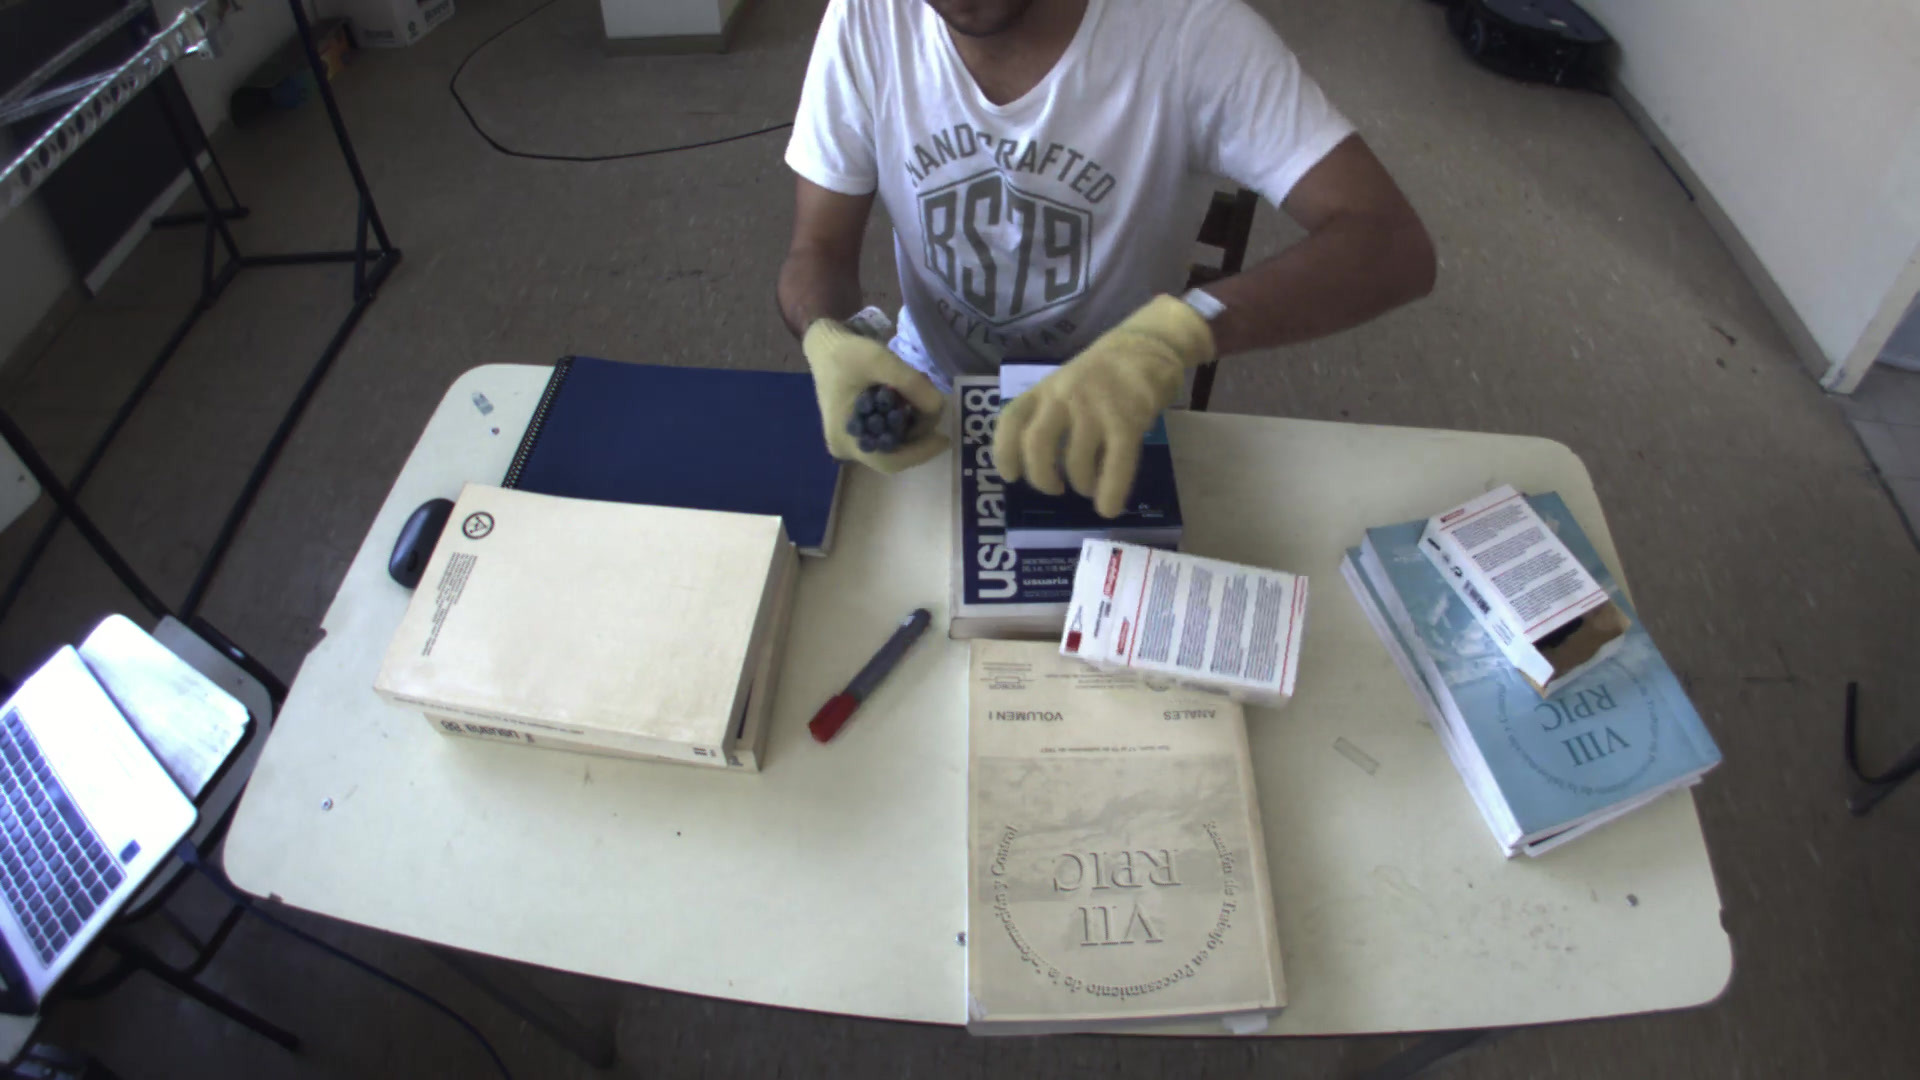hand: (989, 284, 1225, 517), (789, 303, 953, 468)
